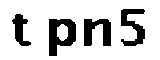5: (117, 3, 148, 49)
n: (81, 16, 113, 48)
p: (43, 16, 78, 60)
t: (6, 10, 32, 52)
